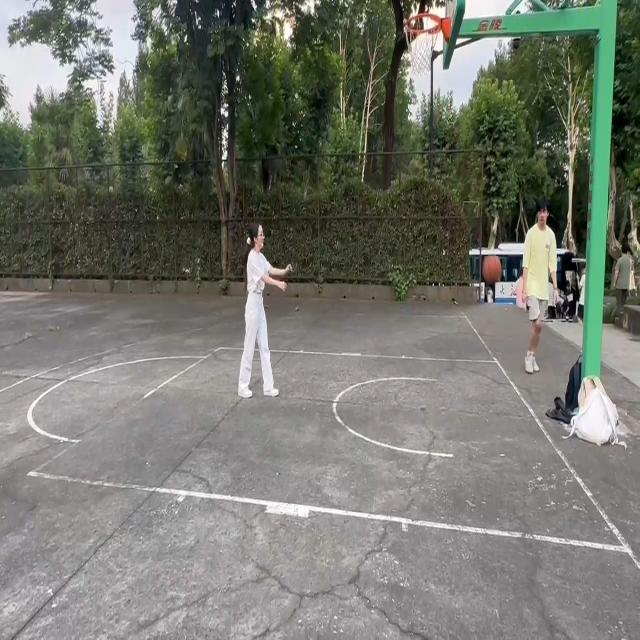basketball: (402, 13, 450, 81)
rim: (483, 257, 502, 285)
